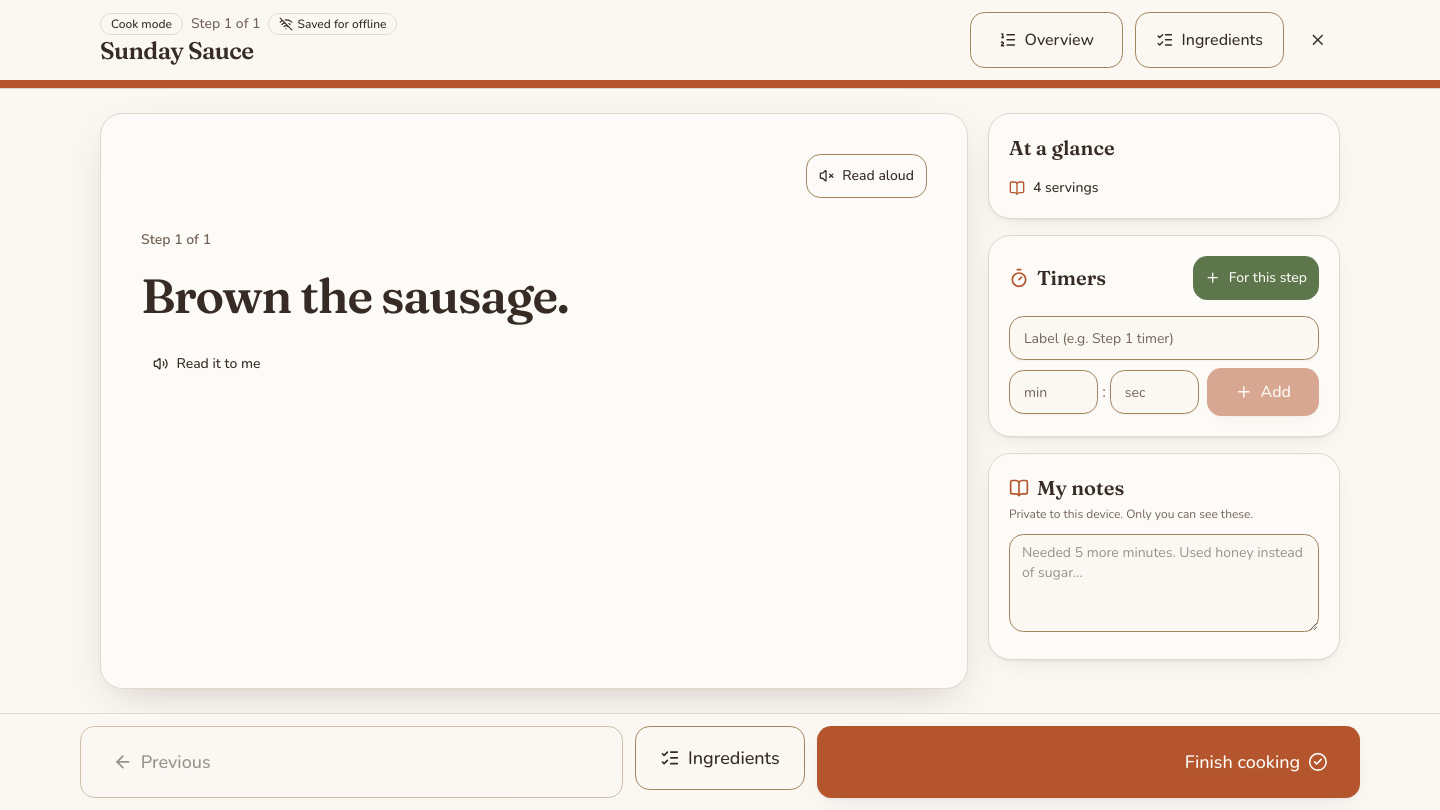
Test: Cook Mode completion moment (issue #437) › still shows the moment (less loud) in grown-up modes
Click the button "Finish cooking": (1242, 762) [817,726,1360,798]
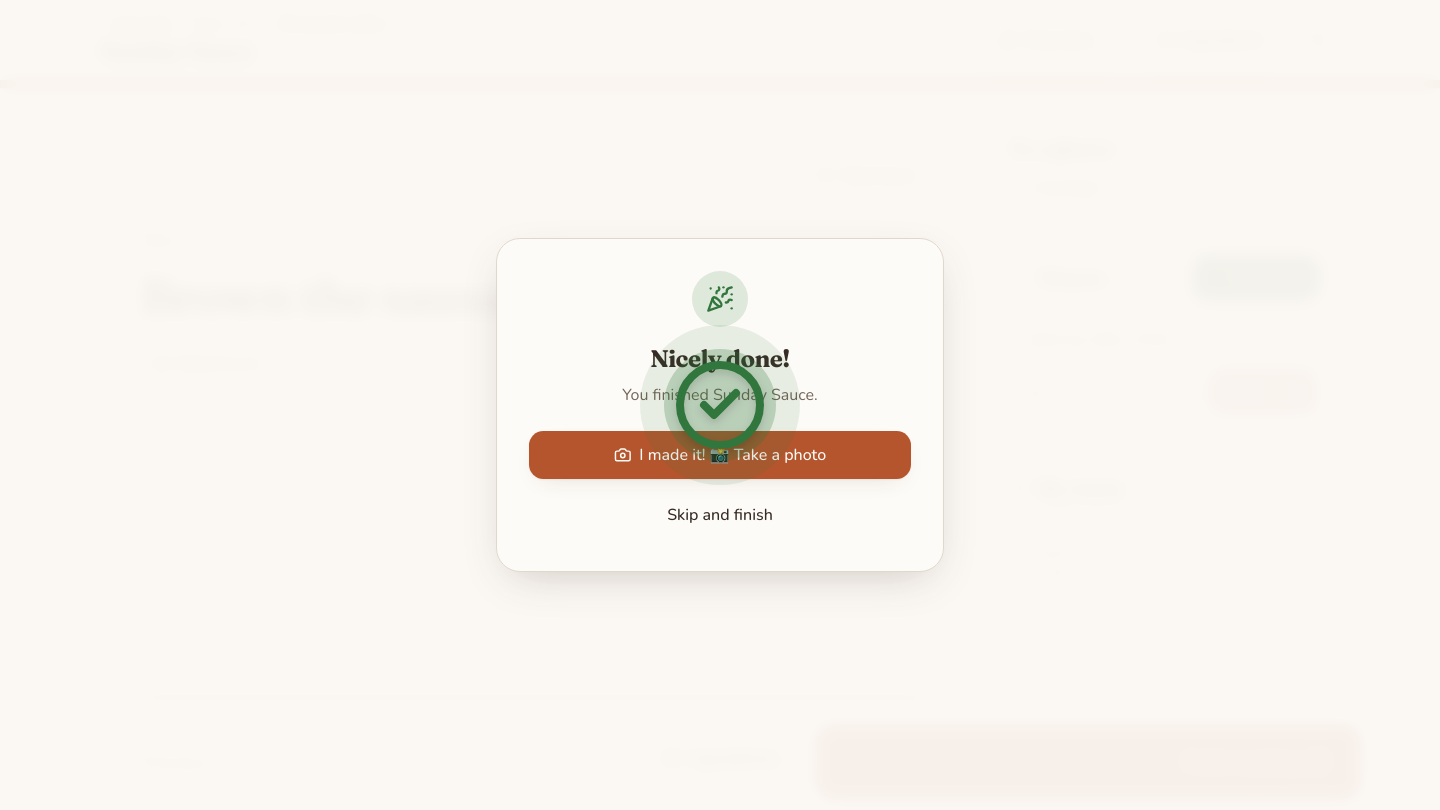
Expected: the heading "Nicely done!" is shown, [650,344,790,373]
